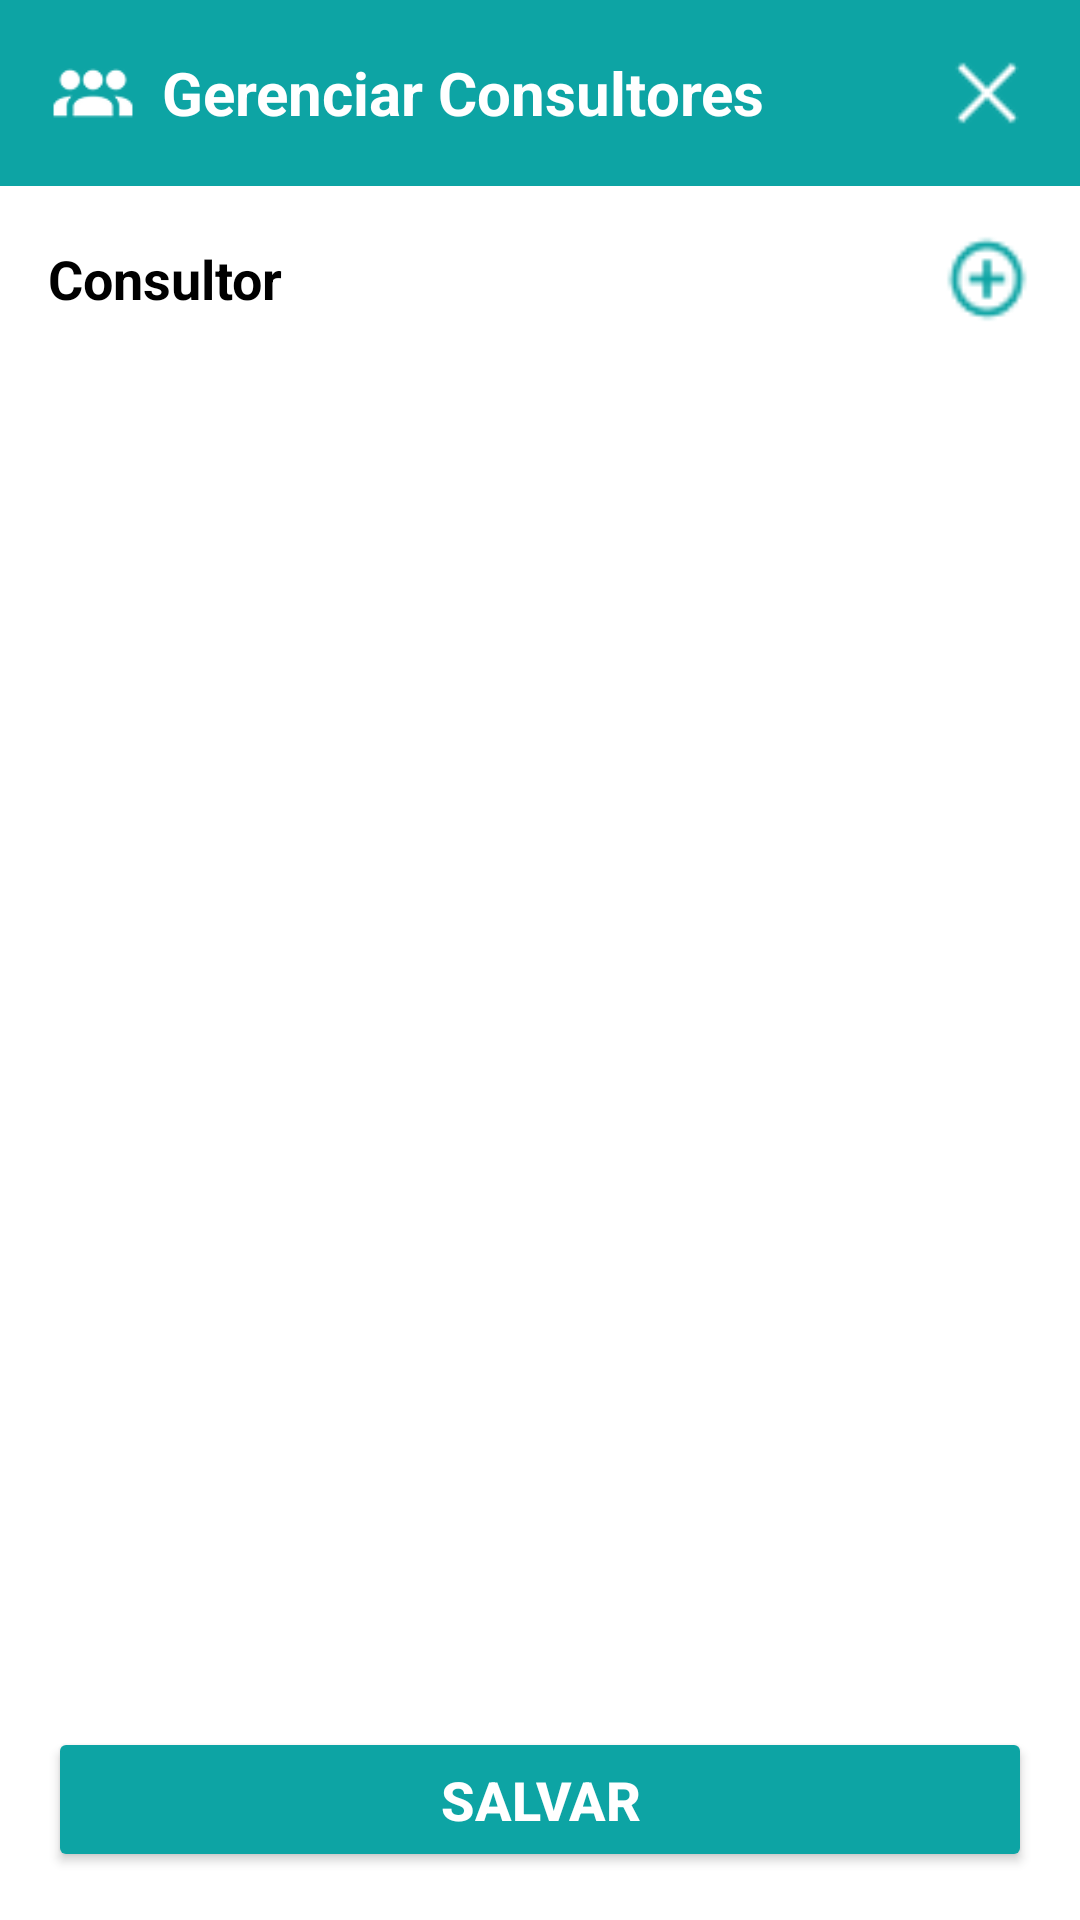

Screen size 1080 x 1920. Icon name, then its box in pixels as (x1, y1, x2, y2):
add consultant: (947, 238, 1027, 320)
close: (957, 62, 1018, 124)
management: (53, 69, 133, 118)
